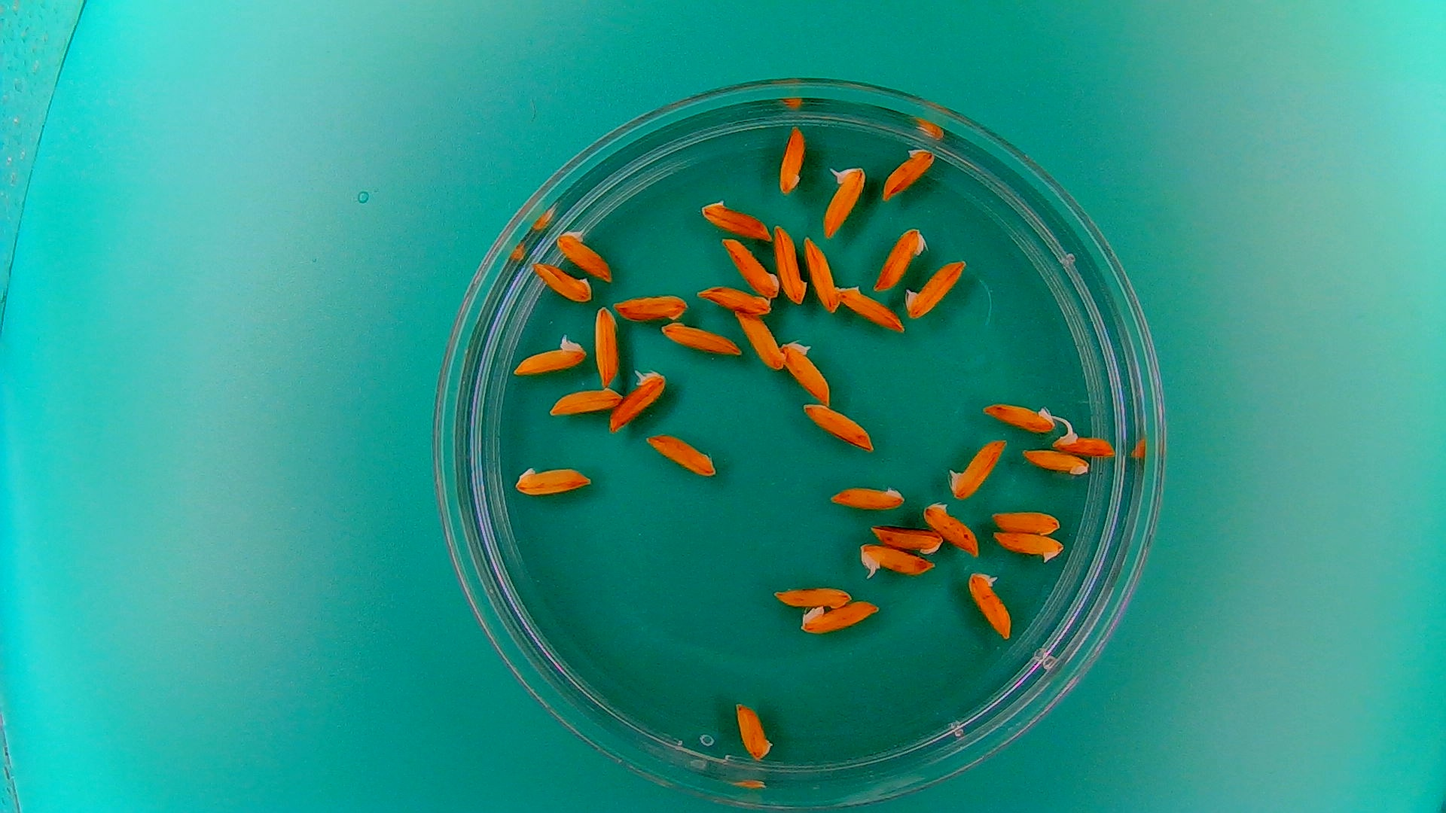no: (800, 399, 877, 454), (719, 236, 780, 299), (734, 306, 788, 377), (642, 430, 718, 479), (873, 224, 927, 292), (796, 595, 884, 636), (921, 498, 982, 556), (838, 283, 906, 335), (657, 318, 743, 359), (699, 195, 773, 241), (803, 235, 844, 315), (880, 144, 936, 202), (511, 461, 594, 499), (773, 221, 810, 306), (979, 395, 1059, 434), (529, 257, 593, 304), (826, 477, 908, 513), (545, 383, 624, 419), (694, 282, 774, 317), (612, 289, 689, 324), (769, 579, 853, 611), (734, 699, 775, 763), (871, 520, 943, 555), (591, 303, 621, 387), (1018, 446, 1091, 479), (775, 121, 807, 195), (990, 507, 1063, 537)
yes: (902, 257, 968, 321), (609, 364, 669, 434), (946, 434, 1008, 501), (510, 330, 589, 377), (820, 161, 867, 239), (780, 336, 833, 405), (554, 226, 614, 284), (967, 568, 1014, 641), (1051, 411, 1122, 458), (853, 541, 935, 581), (990, 528, 1066, 563)
